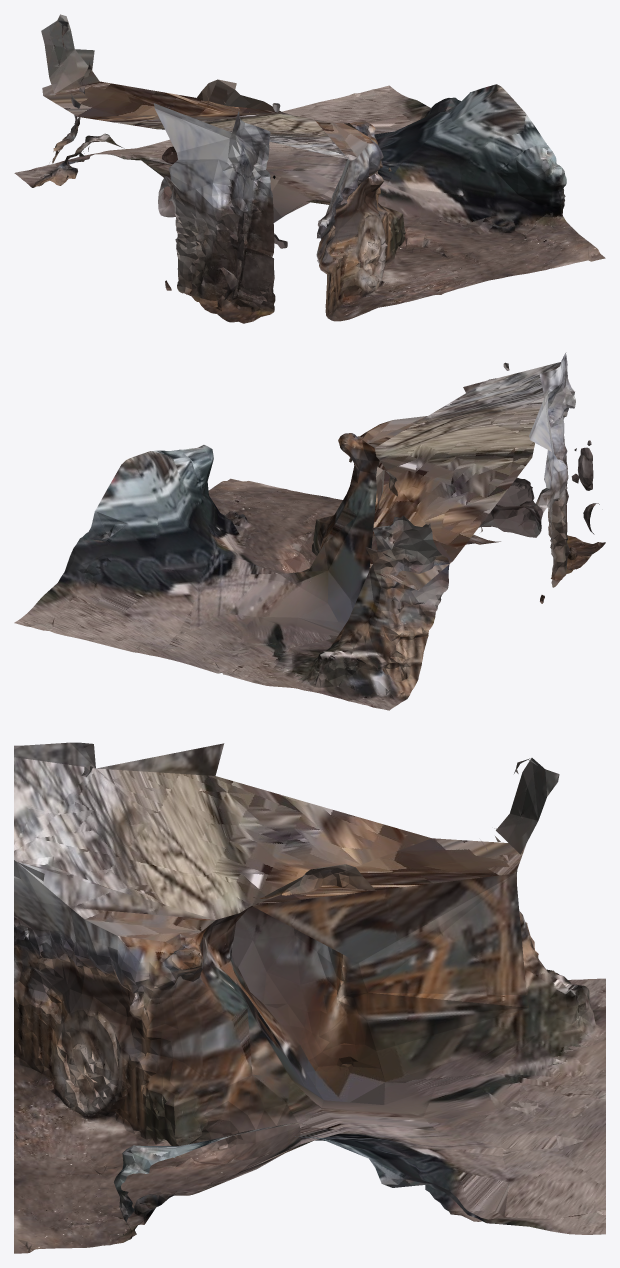
The picture shows the model from 3 angles, top to bottom: view 1: azimuth 30°, elevation 25°; view 2: azimuth 150°, elevation 25°; view 3: azimuth 270°, elevation 25°; orthographic projection. The views are drawn at different scales.
Size of the model in its own units: 10.44 by 5.74 by 10.44.
Materials: 4 (4 with a texture image).
